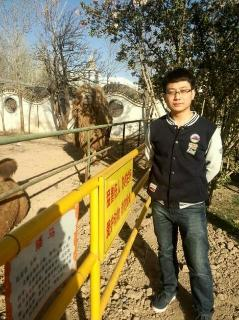long sleeve top: (145, 111, 223, 209)
trousers: (152, 190, 216, 316)
